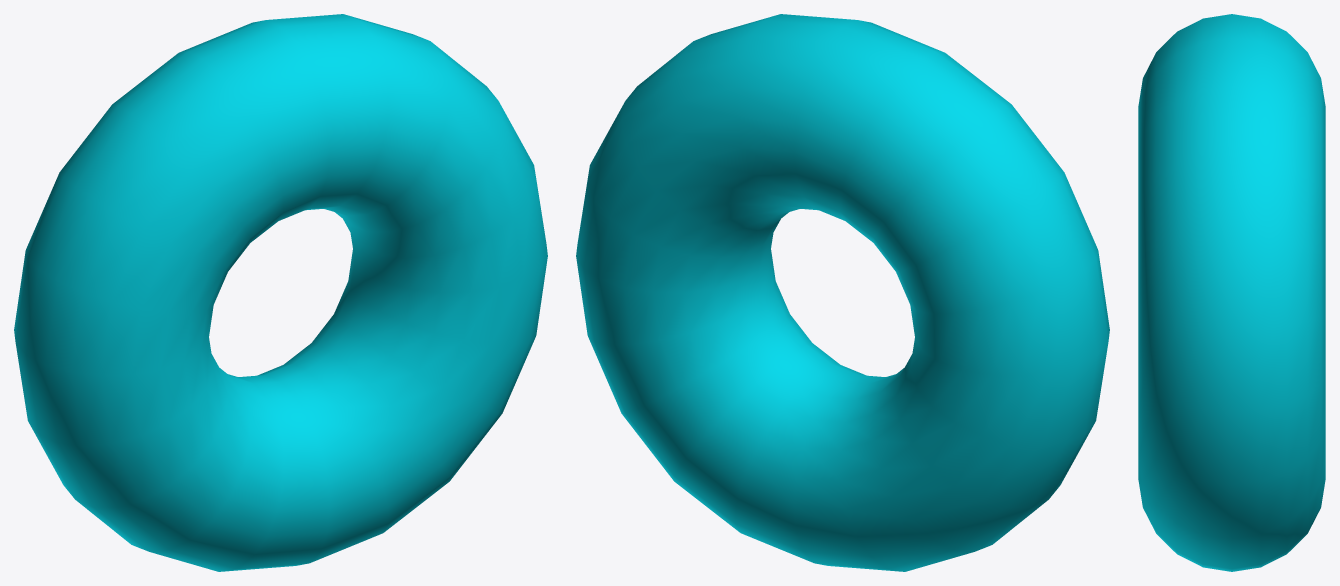
File: Donuts3.fbx
3 views of the same model, side by side, from view 1: azimuth 30°, elevation 25°; view 2: azimuth 150°, elevation 25°; view 3: azimuth 270°, elevation 25° (orthographic). The views are drawn at different scales.
Parts seen in each view (by area): view 1: pTorus1; view 2: pTorus1; view 3: pTorus1.
Part boxes in pixels (x1,y1,x2,y2): pTorus1: (14,14,547,571); pTorus1: (576,14,1109,571); pTorus1: (1138,14,1325,571).
Bounding box in the file's own units: 3 × 3 × 1.
